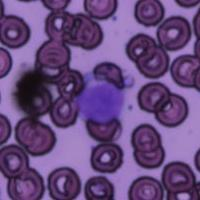L: (74, 80, 125, 123)
